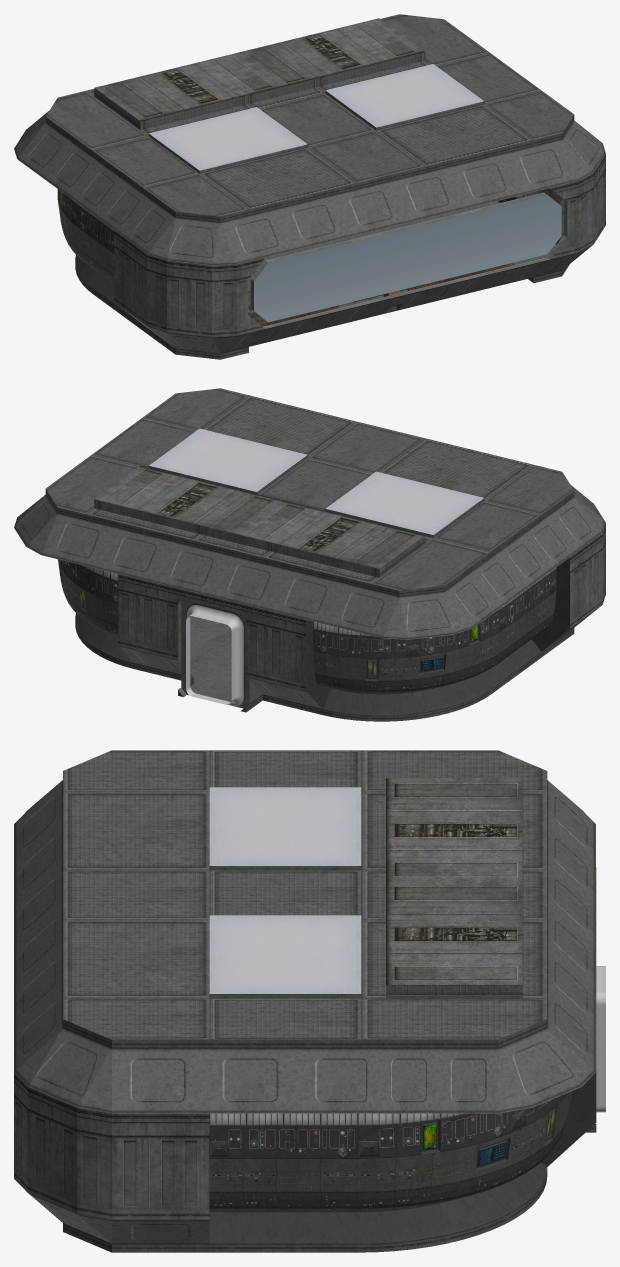
Rendered from thm_spc_corvette_dungeon_r66_bridge66_mesh_r66.fbx.
3 views of the same model, one above another, from view 1: azimuth 30°, elevation 25°; view 2: azimuth 150°, elevation 25°; view 3: azimuth 270°, elevation 25° (orthographic). The views are drawn at different scales.
Visible parts, largest first — view 1: mesh_node; view 2: mesh_node; view 3: mesh_node.
Boxes of the visible parts, bbox=[...] form: mesh_node: bbox=[14, 14, 605, 359]; mesh_node: bbox=[14, 388, 605, 721]; mesh_node: bbox=[14, 750, 605, 1252].
Bounding box in the file's own units: 16 × 5.1 × 12.1.
